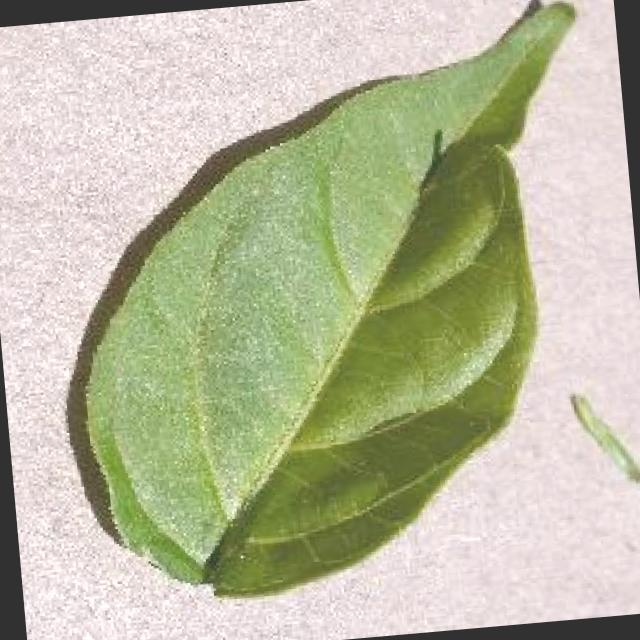Leaf: (16, 7, 617, 576)
